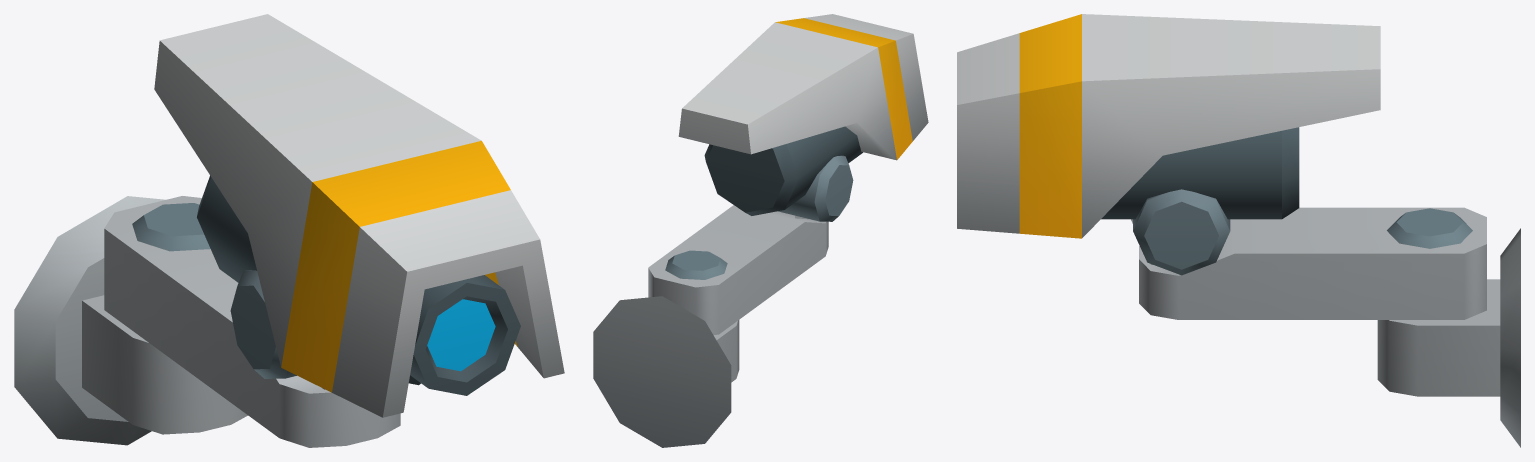
Rendered from Security_cam_008.glb.
3 views of the same model, side by side, from view 1: azimuth 30°, elevation 25°; view 2: azimuth 150°, elevation 25°; view 3: azimuth 270°, elevation 25° (orthographic). The views are drawn at different scales.
Visible parts, largest first — view 1: Cam_008, Security_cam_008; view 2: Cam_008, Security_cam_008; view 3: Cam_008, Security_cam_008.
Part boxes in pixels (x1,y1,x2,y2): Cam_008: [104, 14, 564, 447]; Security_cam_008: [14, 196, 247, 445]; Cam_008: [648, 14, 928, 334]; Security_cam_008: [593, 296, 739, 447]; Cam_008: [957, 14, 1486, 319]; Security_cam_008: [1377, 228, 1520, 447].
Size of the model in its own units: 0.1918 by 0.3804 by 0.4959.
Materials: 2 (2 with a texture image).
